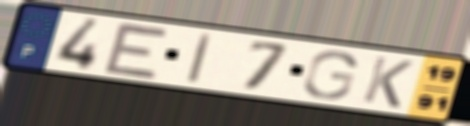4: (51, 16, 101, 72)
7: (244, 39, 293, 93)
E: (100, 20, 174, 82)
G: (300, 49, 360, 101)
I: (183, 31, 216, 87)
K: (358, 54, 416, 111)
